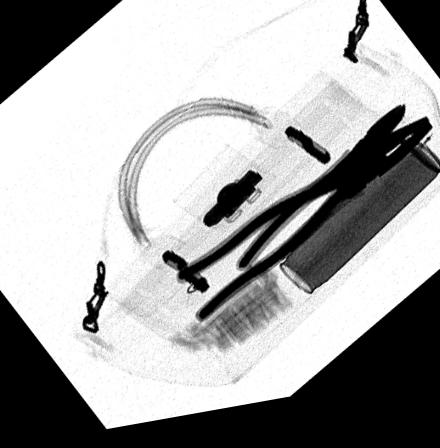Pliers: (172, 128, 436, 335), (233, 114, 405, 282)
